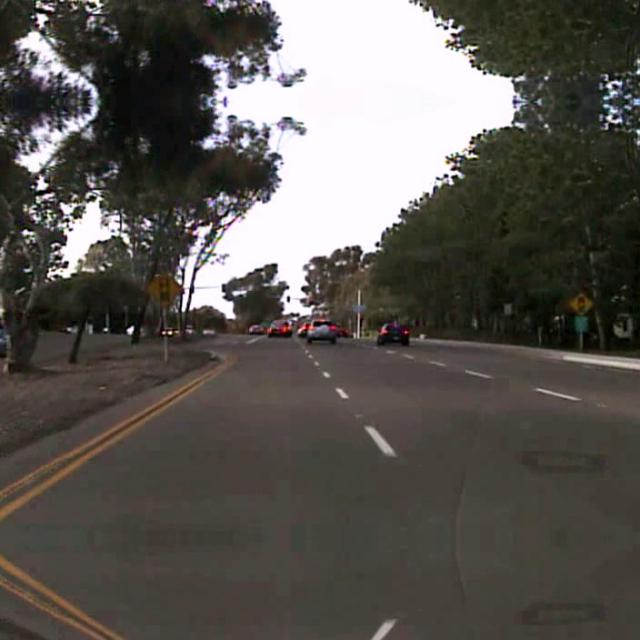signalAhead: (145, 270, 183, 306), (568, 290, 592, 316)
